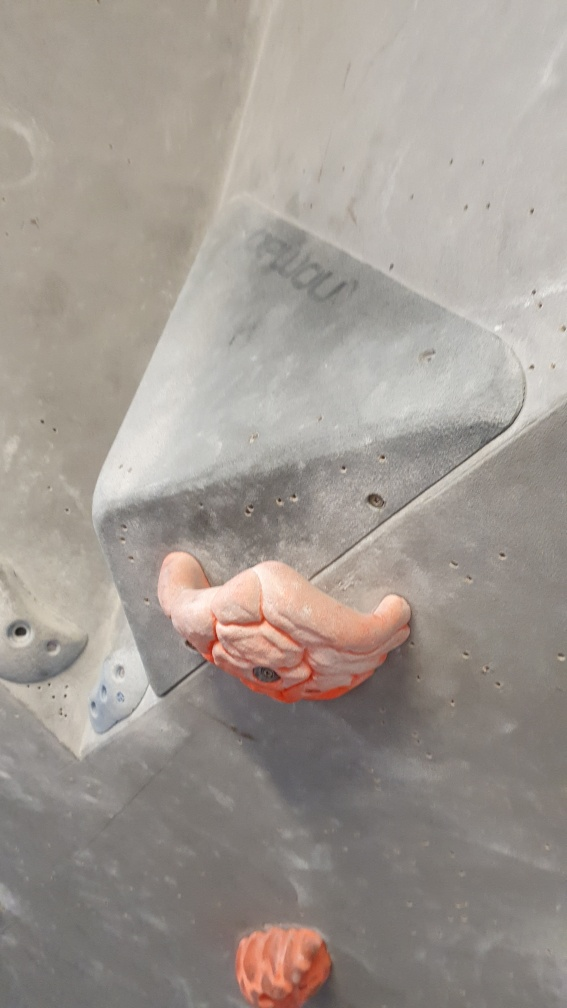Jug: (154, 548, 416, 707)
